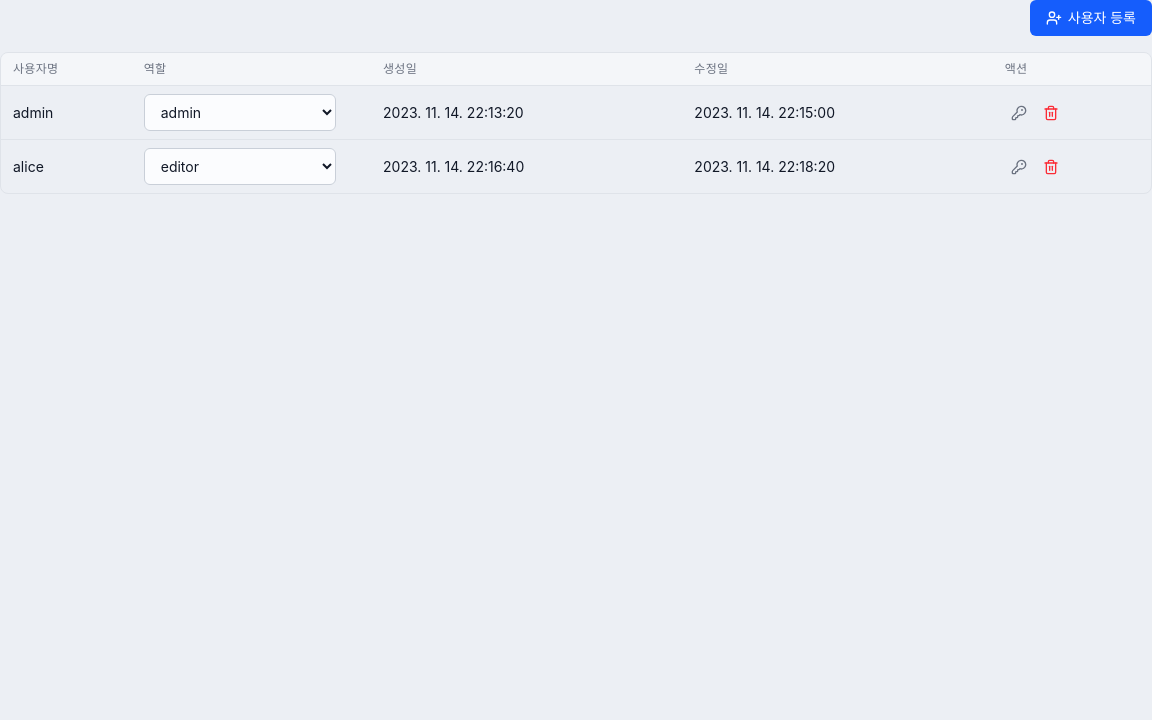
UsersPanel 삭제와 409 잠금 방지 (AC-03) › 마지막 관리자 삭제가 409 로 거부되면 원인을 안내하고 목록은 변하지 않는다
Expected: the row with test id "admin-user-row-alice" is shown, [1,140,1151,193]
Click the button named "삭제 admin" at (1051, 112), box [1037,98,1065,126]
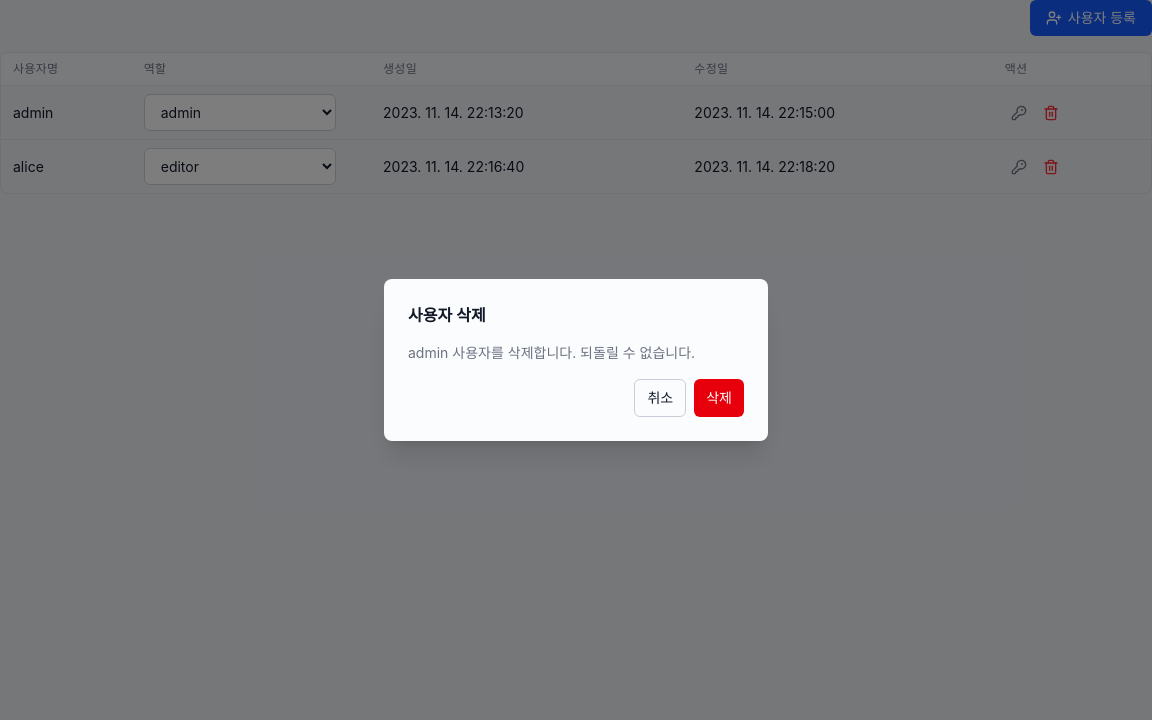
Click the button "삭제" at (719, 398), box [694,379,744,417]
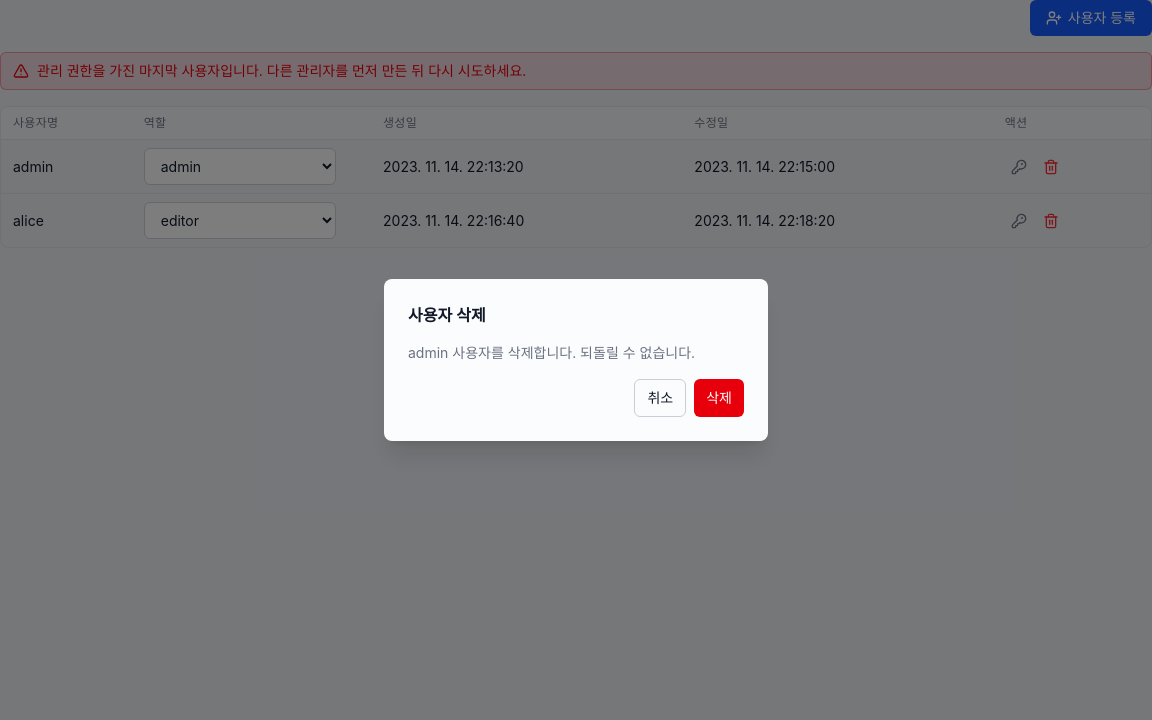
Expected: the number of rows is 3, [1,107,1151,140]; [1,140,1151,194]; [1,194,1151,247]
Expected: the message with test id "admin-action-error" shows "관리 권한을 가진 마지막 사용자입니다.", [37,62,526,79]
